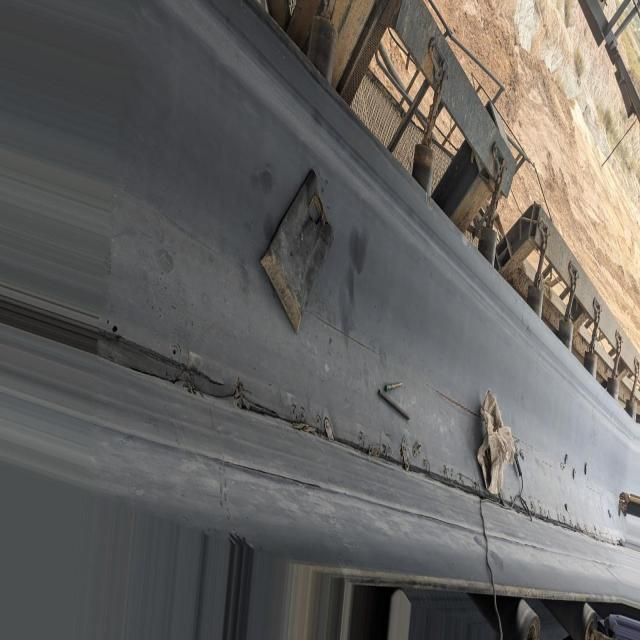Other Objects: (262, 169, 336, 334), (478, 392, 521, 496), (376, 381, 410, 421)
Roller: (529, 291, 640, 424), (307, 16, 340, 86), (412, 146, 438, 197), (477, 227, 499, 269)
Tear: (110, 318, 604, 549)
